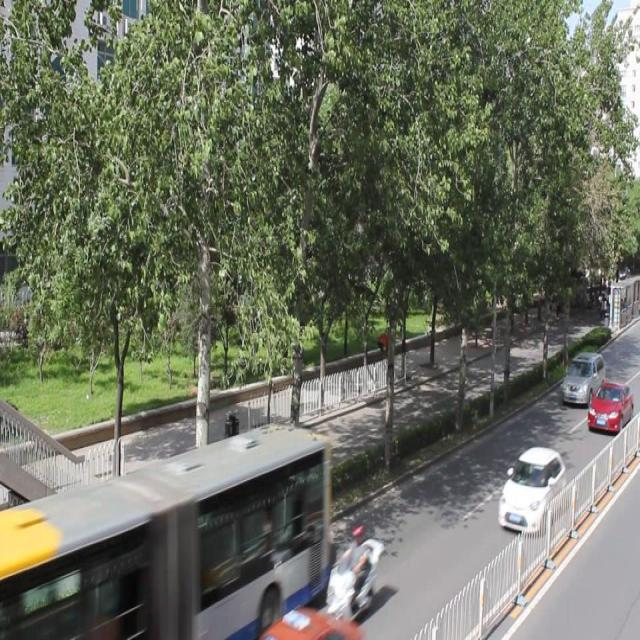car: (497, 447, 564, 534), (261, 605, 356, 640), (585, 382, 631, 435), (560, 351, 604, 405)
van: (1, 431, 328, 640)
